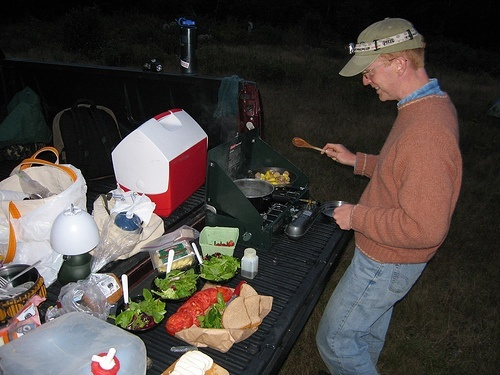head: (363, 18, 427, 103)
person: (314, 19, 462, 366)
